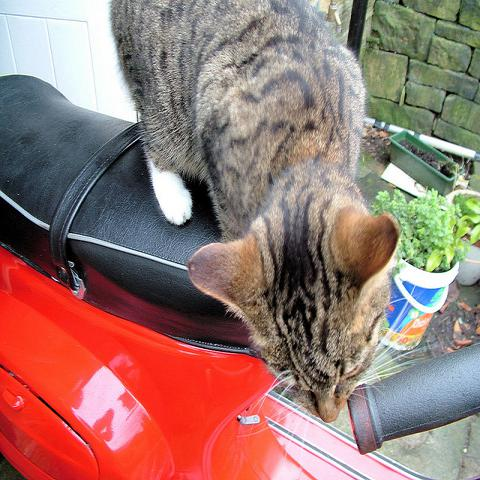motorcycle: (2, 74, 480, 471)
